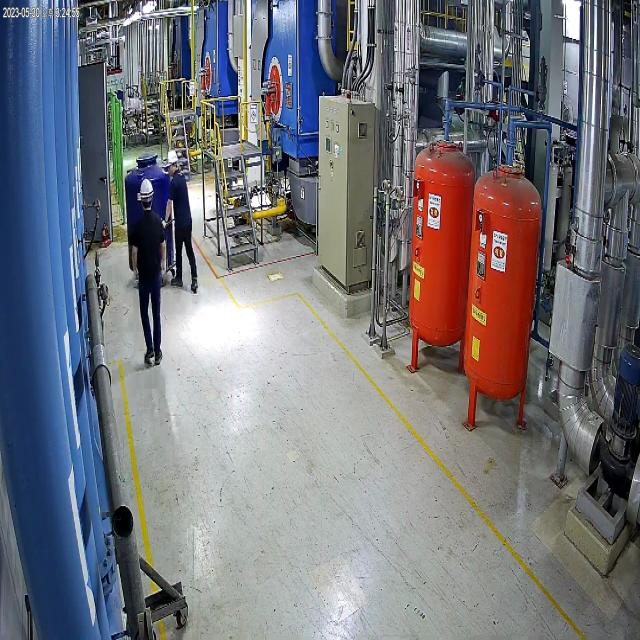Water Tank: (120, 145, 172, 279)
worker: (127, 171, 171, 373), (157, 141, 206, 303)
